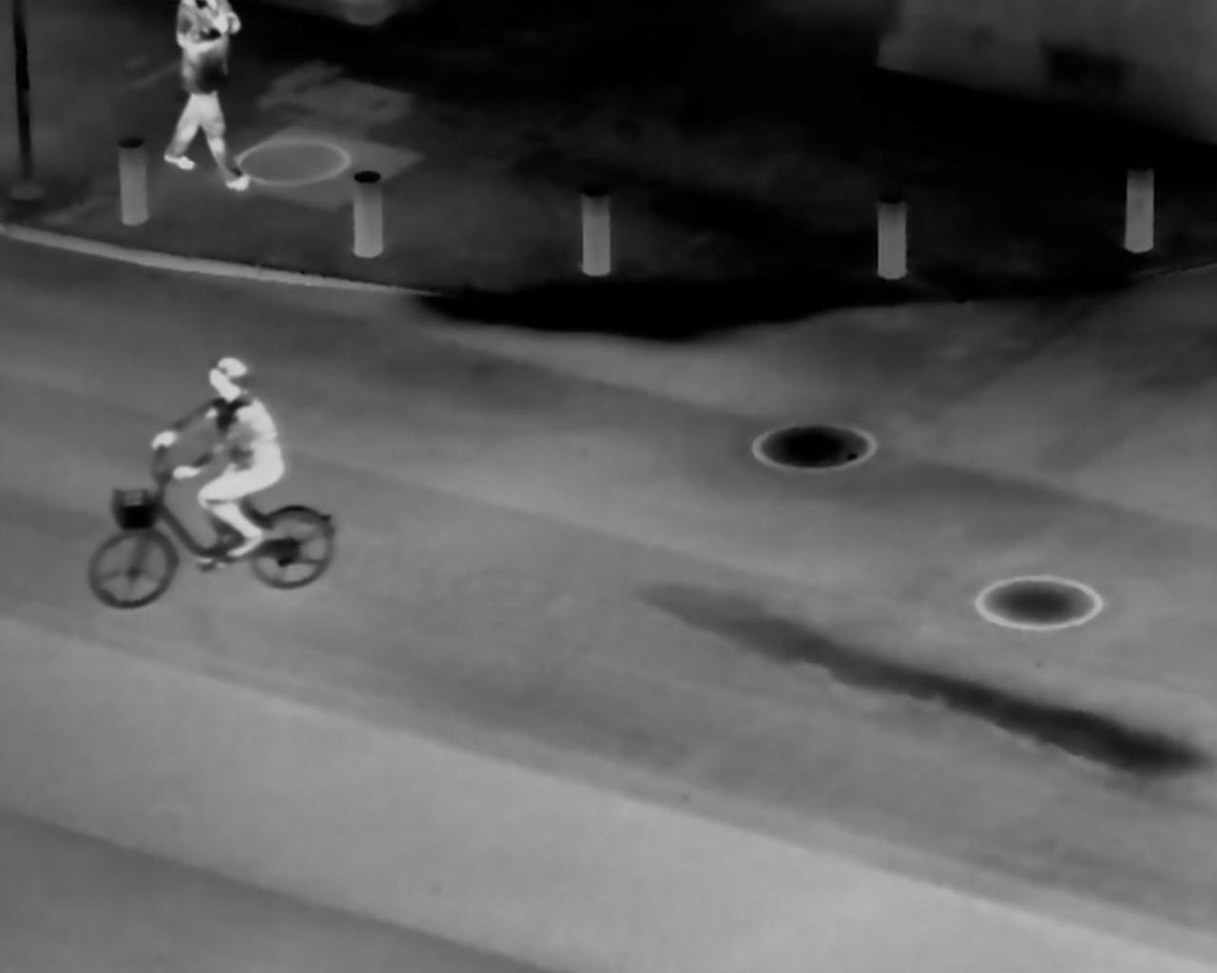person: (151, 354, 308, 597), (158, 2, 263, 204)
